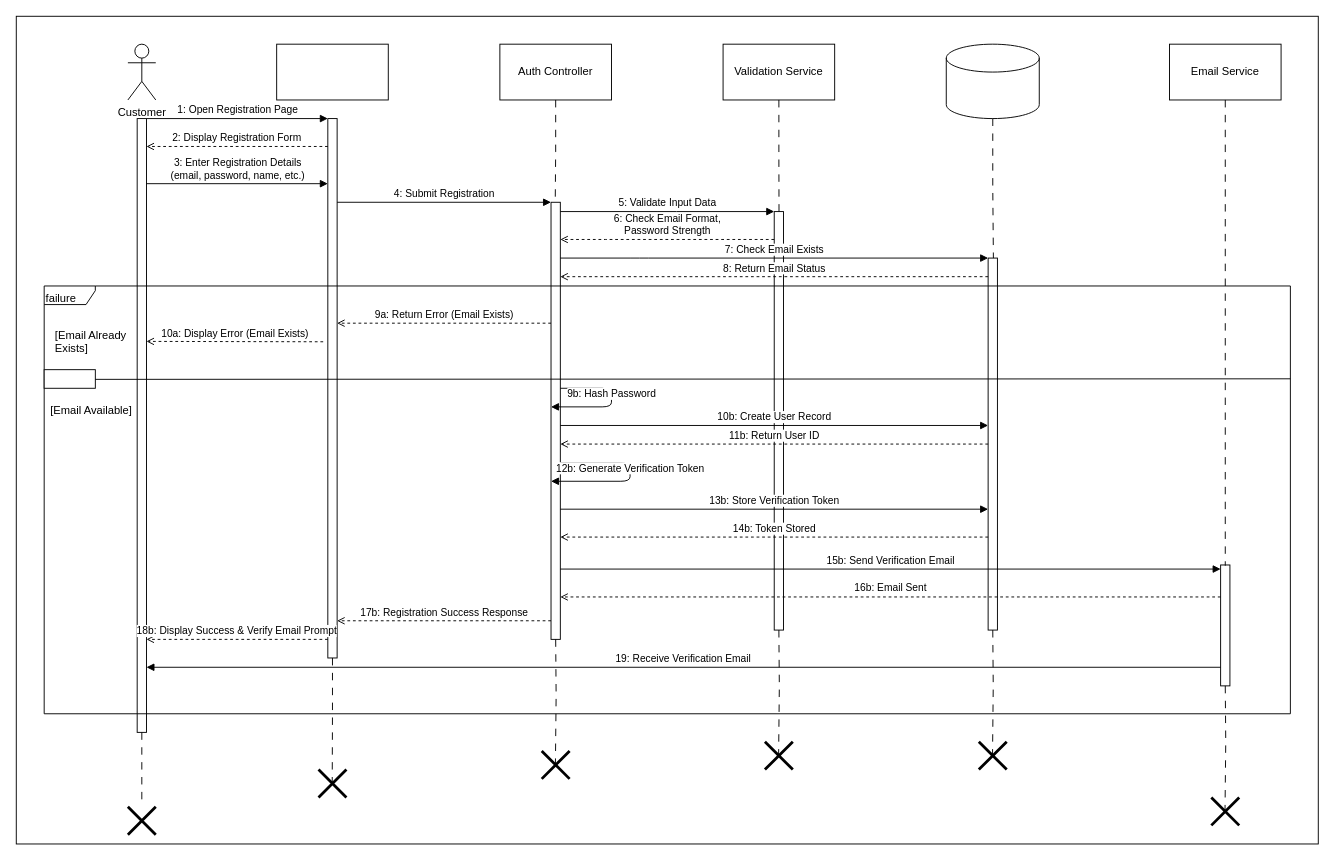
This 1335x860 diagram has some shape labels left out. The centre of each missing label's shape, as x and y in pixels:
Database: pixel 992 81
Registration UI: pixel 332 71
Success: pixel 69 378
